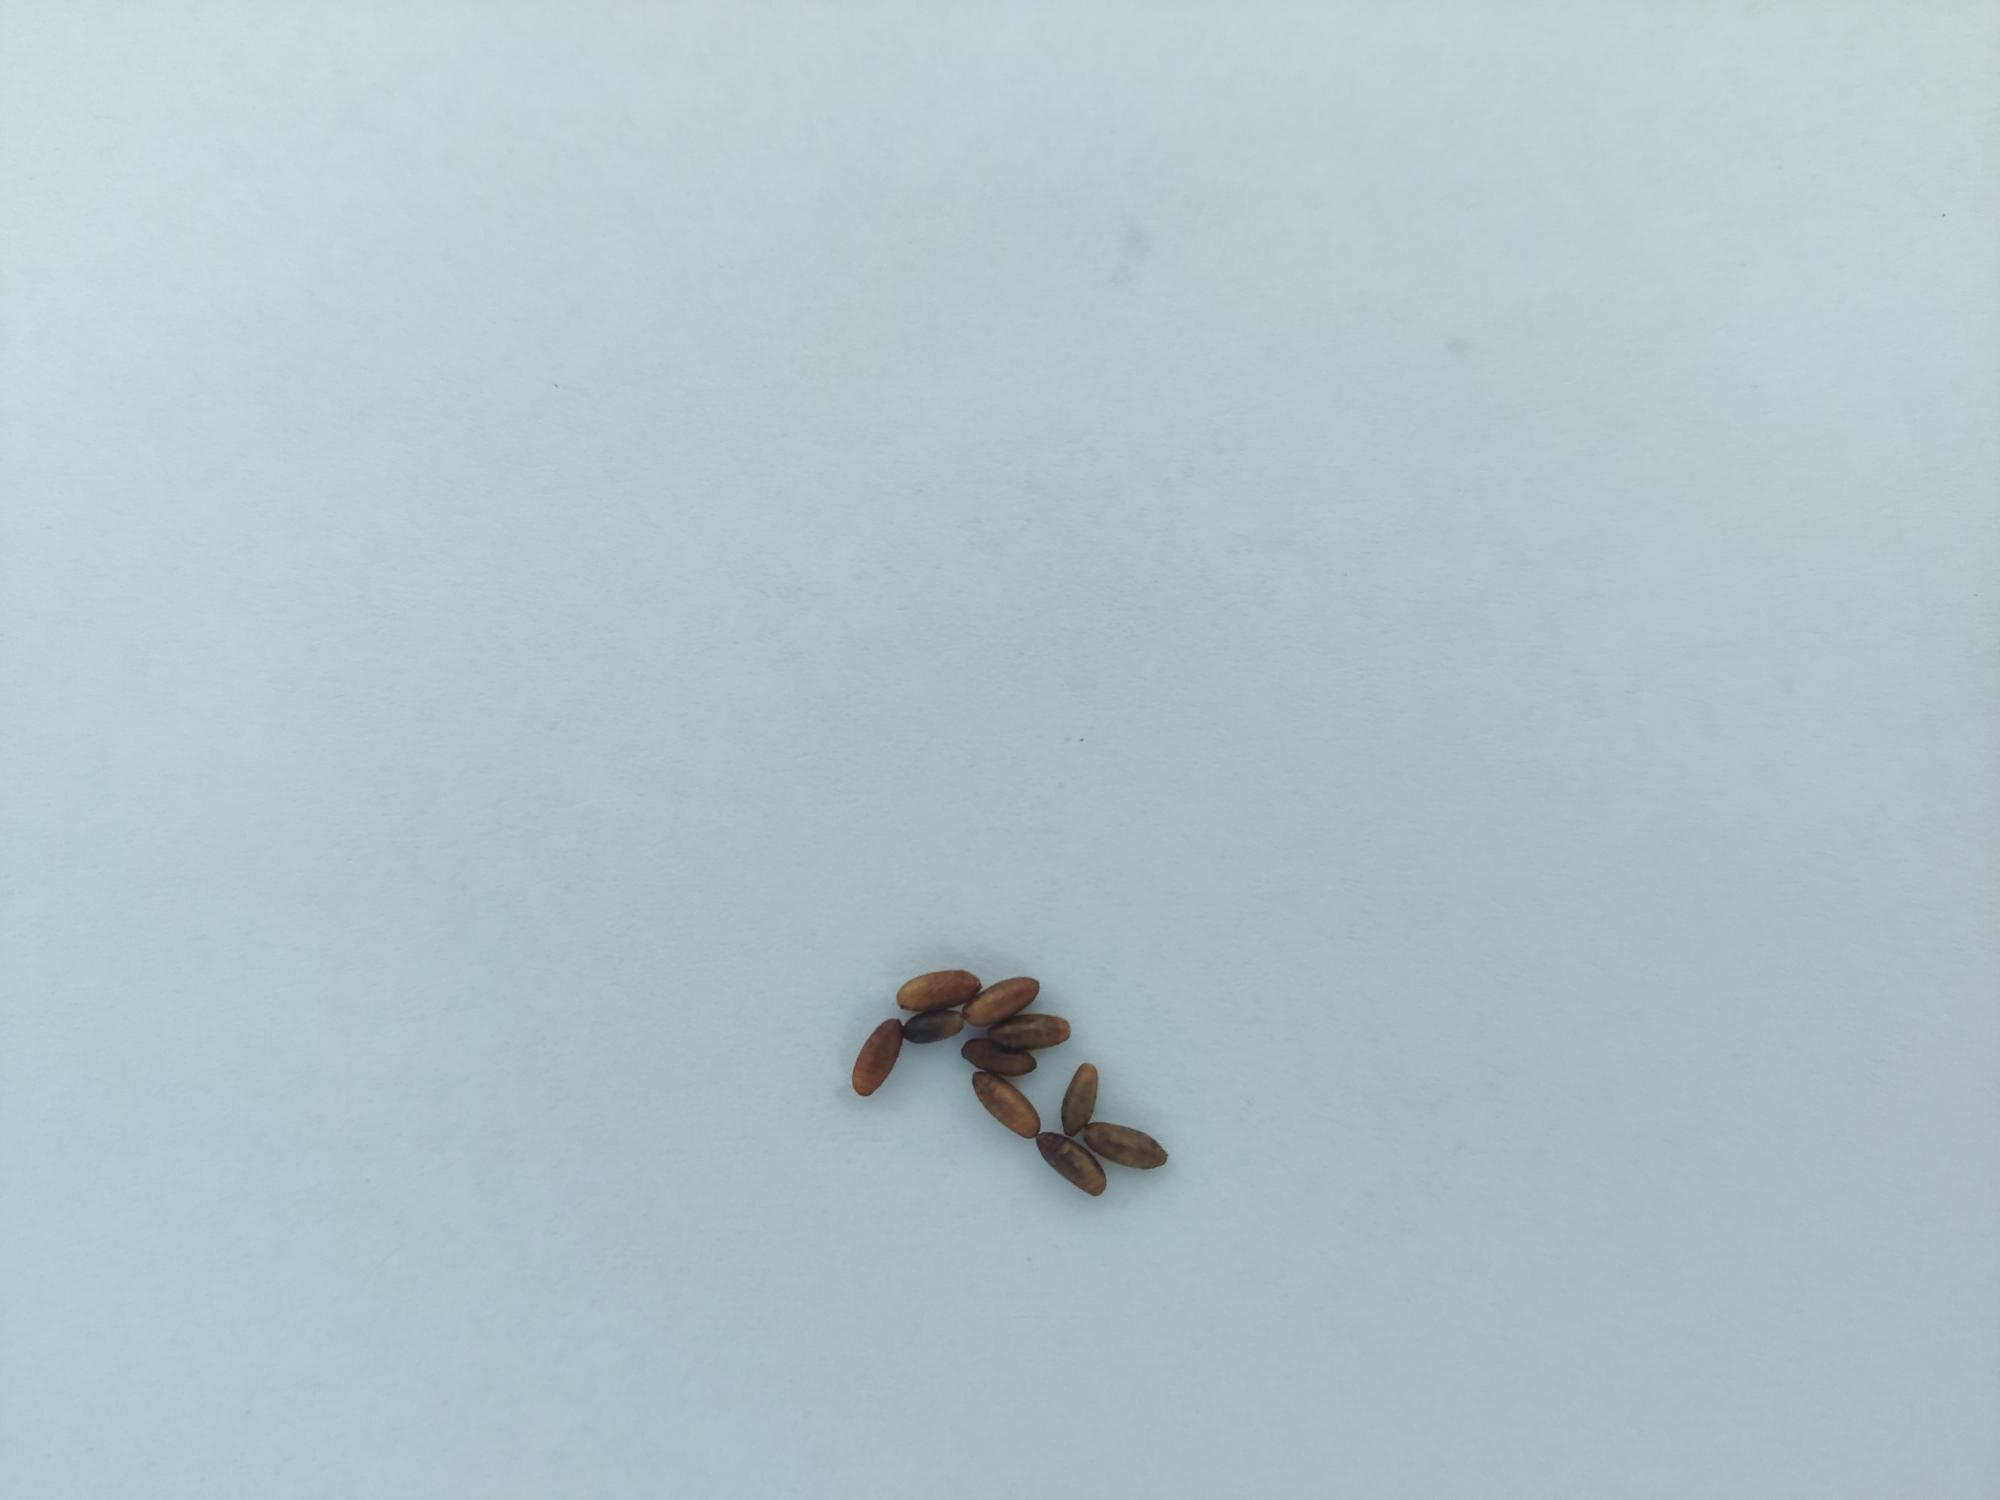pupae: (964, 1065, 1046, 1136), (1033, 1133, 1113, 1202), (1079, 1117, 1175, 1174), (846, 1018, 902, 1106), (1057, 1056, 1109, 1139), (969, 972, 1046, 1024), (953, 1037, 1046, 1078), (890, 966, 981, 1007), (987, 1013, 1077, 1048), (902, 1010, 972, 1048)
